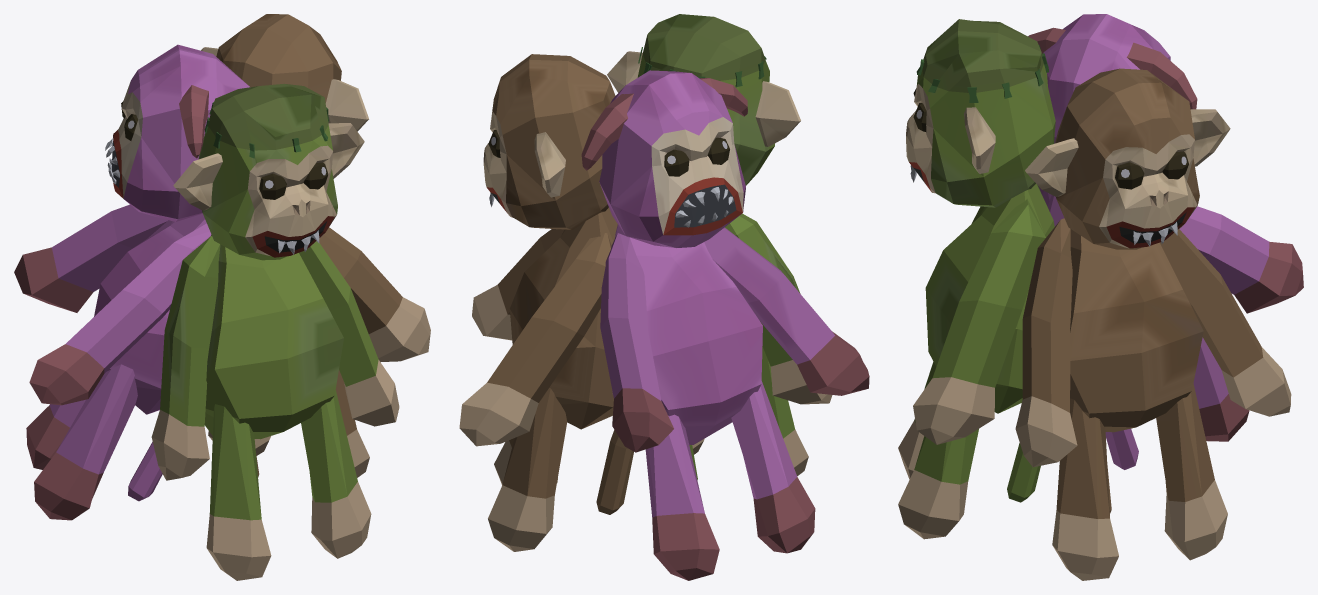
Rendered from SM_Prop_Plushies_Grouped_08.glb.
3 renders of one model, left to right at view 1: azimuth 30°, elevation 25°; view 2: azimuth 150°, elevation 25°; view 3: azimuth 270°, elevation 25°, orthographic. The views are drawn at different scales.
Parts seen in each view (by area): view 1: SM_Prop_Plushies_Grouped_08; view 2: SM_Prop_Plushies_Grouped_08; view 3: SM_Prop_Plushies_Grouped_08.
Boxes of the visible parts, x1,y1,x2,y2 form: SM_Prop_Plushies_Grouped_08: [14, 14, 430, 580]; SM_Prop_Plushies_Grouped_08: [459, 14, 869, 580]; SM_Prop_Plushies_Grouped_08: [898, 14, 1303, 580].
Size of the model in its own units: 121 by 135 by 103.
Materials: 1 (1 with a texture image).
